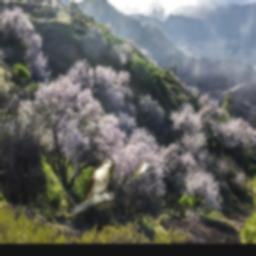Cuckoo: (72, 159, 115, 229), (127, 161, 153, 184)
